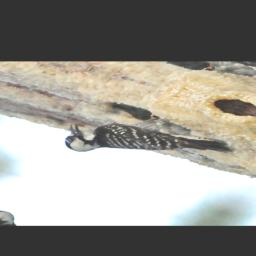Woodpecker: (48, 101, 247, 184)
